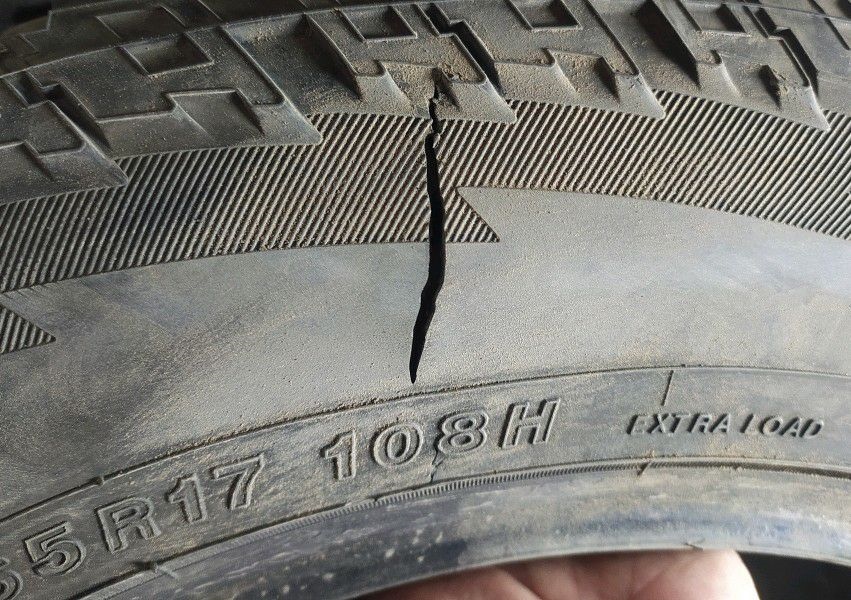cut: (407, 60, 448, 386)
